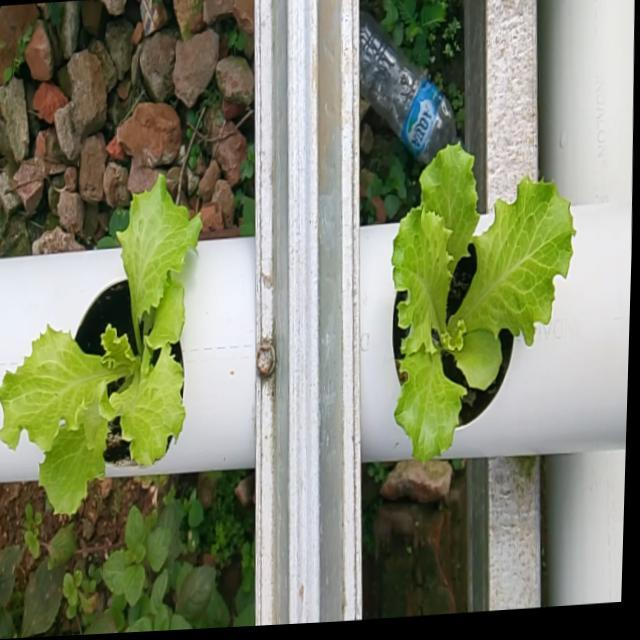Baby: (7, 176, 208, 512), (395, 142, 579, 462)
